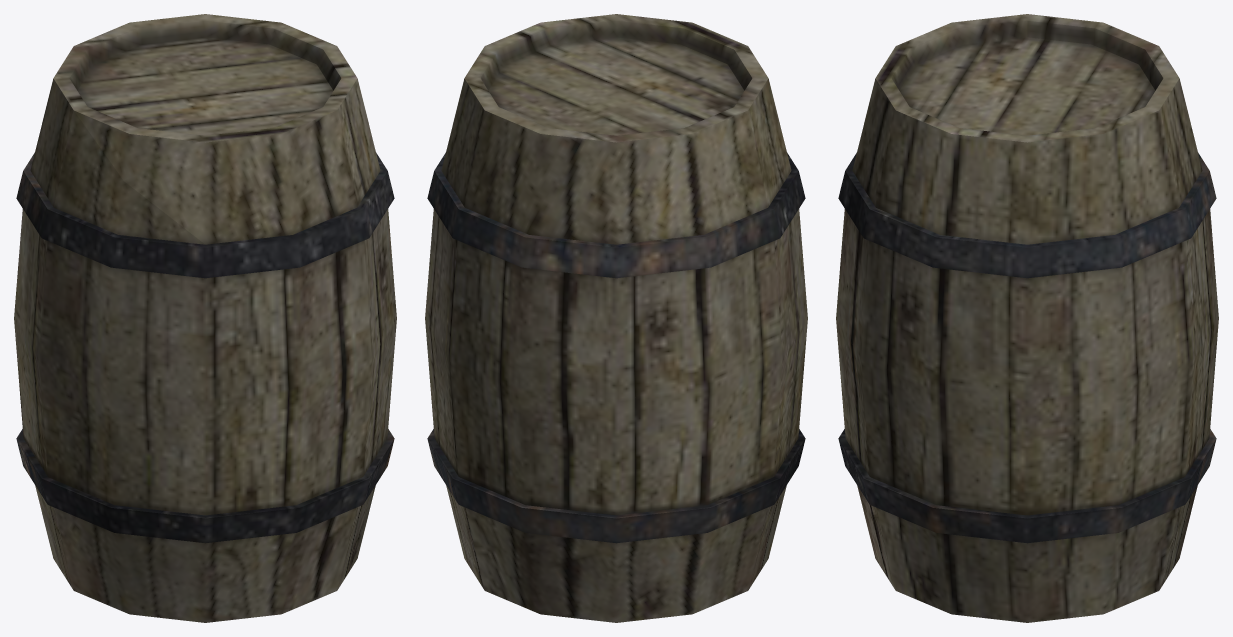
Rendered from WoodenBarrel.FBX.
3 renders of one model, left to right at view 1: azimuth 30°, elevation 25°; view 2: azimuth 150°, elevation 25°; view 3: azimuth 270°, elevation 25°, orthographic.
Visible parts, largest first — view 1: B_Unbroken, B_Frag04, B_Frag07, B_Frag05, B_Frag03, B_Frag01, B_Frag06, B_Frag02; view 2: B_Unbroken, B_Frag03, B_Frag04, B_Frag07, B_Frag01; view 3: B_Unbroken, B_Frag03, B_Frag05, B_Frag08, B_Frag06, B_Frag04.
Boxes of the visible parts, box(x1,y1,x2,y2) form: B_Unbroken: box(14, 14, 396, 613); B_Frag04: box(44, 96, 342, 244); B_Frag07: box(35, 485, 292, 622); B_Frag05: box(244, 233, 381, 504); B_Frag03: box(55, 15, 380, 194); B_Frag01: box(16, 170, 52, 237); B_Frag06: box(379, 319, 396, 437); B_Frag02: box(205, 505, 298, 542); B_Unbroken: box(425, 14, 807, 622); B_Frag03: box(441, 17, 747, 234); B_Frag04: box(589, 14, 791, 218); B_Frag07: box(692, 485, 786, 613); B_Frag01: box(705, 208, 779, 266); B_Unbroken: box(838, 14, 1218, 622); B_Frag03: box(898, 14, 1202, 244); B_Frag05: box(836, 209, 893, 486); B_Frag08: box(916, 533, 1126, 622); B_Frag06: box(895, 273, 936, 504); B_Frag04: box(880, 14, 1027, 119).
Size of the model in its own units: 63.64 by 88.09 by 63.64.
